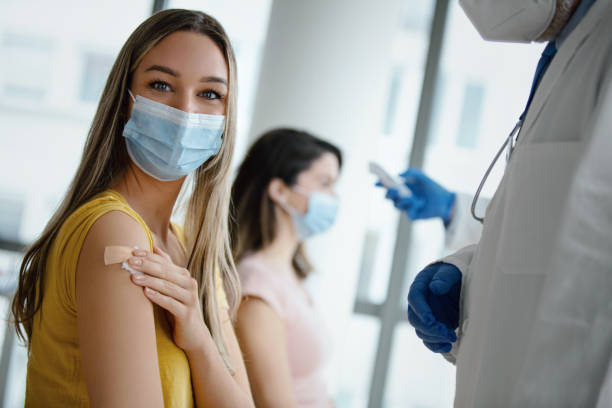with mask: (120, 15, 235, 184), (261, 117, 347, 248)
